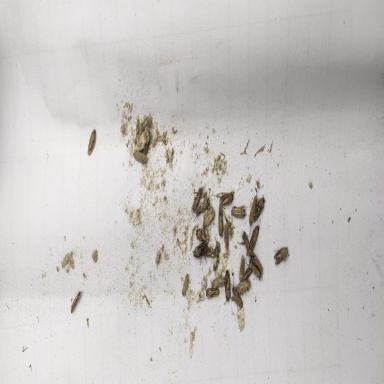pbw: (246, 224, 260, 255), (194, 196, 210, 222), (249, 185, 259, 225), (192, 184, 206, 212), (134, 129, 149, 152), (246, 260, 262, 280), (202, 203, 215, 227), (212, 234, 220, 272), (192, 240, 208, 258), (71, 290, 83, 314), (220, 190, 235, 209), (273, 247, 289, 264), (254, 197, 265, 221), (132, 123, 144, 145), (242, 230, 252, 256), (252, 254, 263, 276), (232, 284, 243, 306), (235, 280, 251, 295), (87, 129, 95, 156), (224, 270, 231, 300), (239, 254, 246, 281), (242, 264, 252, 282), (196, 230, 209, 243), (232, 206, 246, 218), (133, 152, 147, 164), (210, 278, 226, 288), (219, 198, 223, 236), (182, 274, 188, 296), (231, 296, 242, 308), (206, 288, 219, 298), (224, 224, 229, 249), (203, 247, 214, 257)
